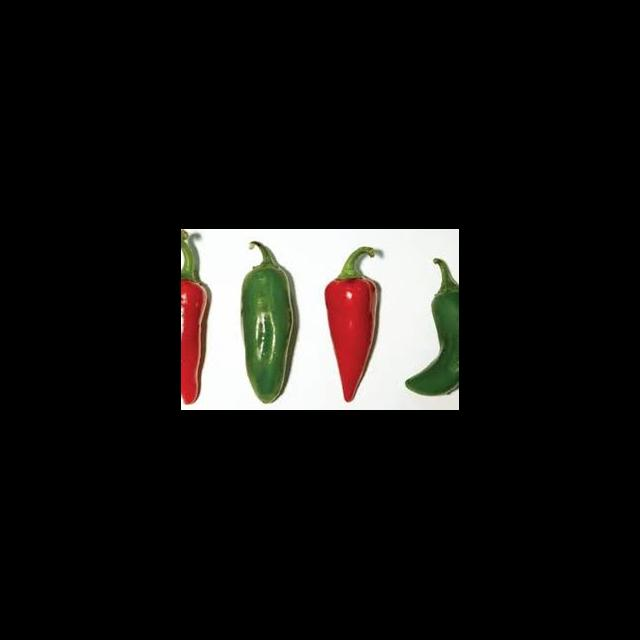chili_pepper: (238, 244, 301, 406), (322, 244, 383, 404), (405, 264, 458, 396), (181, 278, 213, 406)
